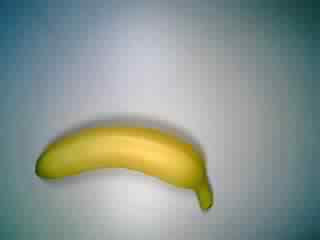banana: (32, 121, 216, 214)
